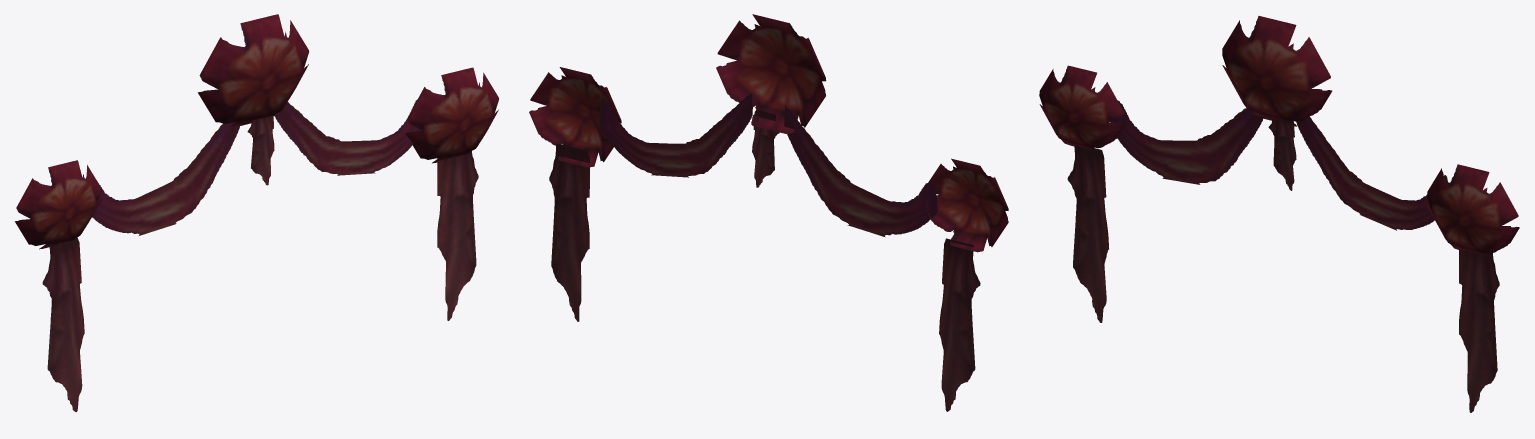
File: zc_suzhou_jiehunguahua.FBX
The picture shows the model from 3 angles, left to right: view 1: azimuth 30°, elevation 25°; view 2: azimuth 150°, elevation 25°; view 3: azimuth 330°, elevation 25°; orthographic projection.
Parts seen in each view (by area): view 1: zc_suzhou_jiehunguahua; view 2: zc_suzhou_jiehunguahua; view 3: zc_suzhou_jiehunguahua.
Boxes of the visible parts, x1=… form: zc_suzhou_jiehunguahua: x1=15, y1=14, x2=498, y2=411; zc_suzhou_jiehunguahua: x1=529, y1=14, x2=1008, y2=411; zc_suzhou_jiehunguahua: x1=1039, y1=16, x2=1519, y2=412.
Size of the model in its own units: 426 by 297 by 25.03.
